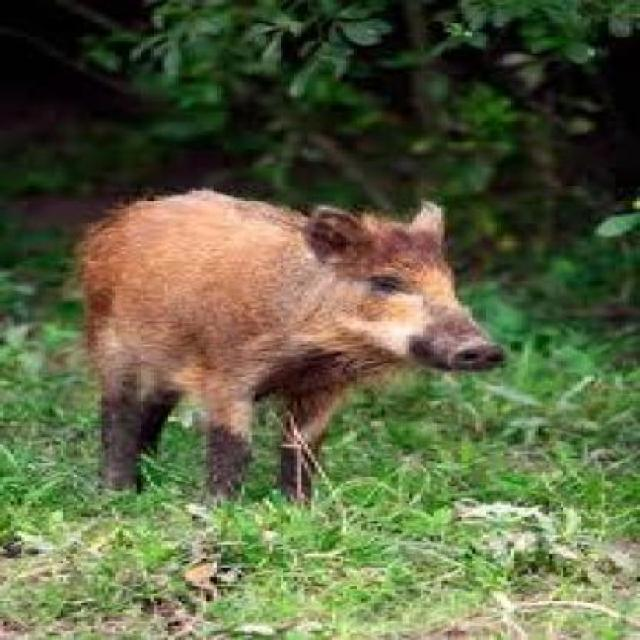wildboar: (65, 184, 506, 510)
